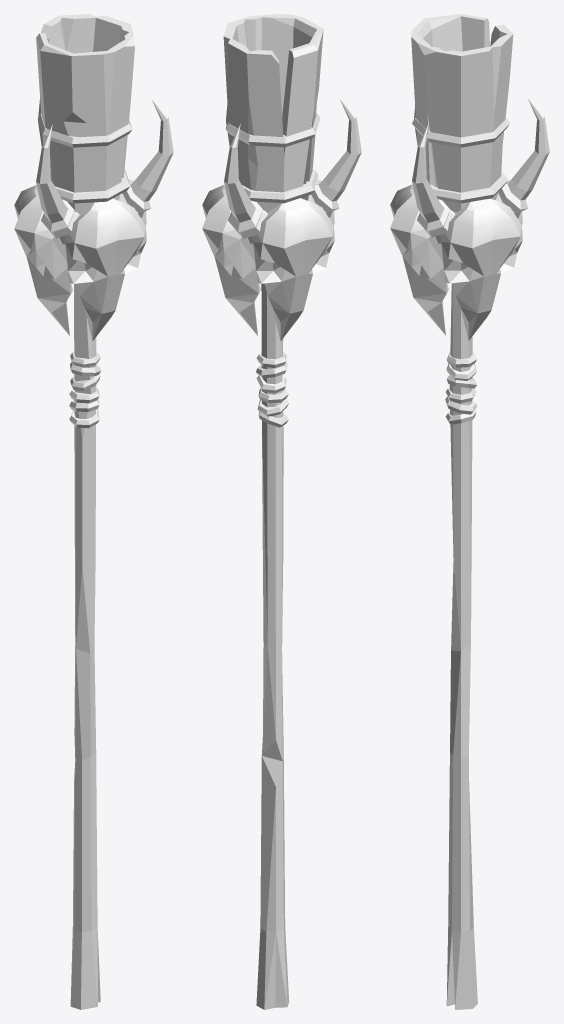
Rendered from SM_Prop_Tiki_Torch_01.glb.
The picture shows the model from 3 angles, left to right: view 1: azimuth 30°, elevation 25°; view 2: azimuth 150°, elevation 25°; view 3: azimuth 270°, elevation 25°; orthographic projection.
Parts seen in each view (by area): view 1: SM_Prop_Tiki_Torch_01; view 2: SM_Prop_Tiki_Torch_01; view 3: SM_Prop_Tiki_Torch_01.
Part boxes in pixels (x1=…): SM_Prop_Tiki_Torch_01: x1=14, y1=14, x2=173, y2=1009; SM_Prop_Tiki_Torch_01: x1=202, y1=14, x2=361, y2=1009; SM_Prop_Tiki_Torch_01: x1=390, y1=14, x2=549, y2=1009.
Size of the model in its own units: 0.3203 by 2.23 by 0.3323.
Materials: 1 (1 with a texture image).
